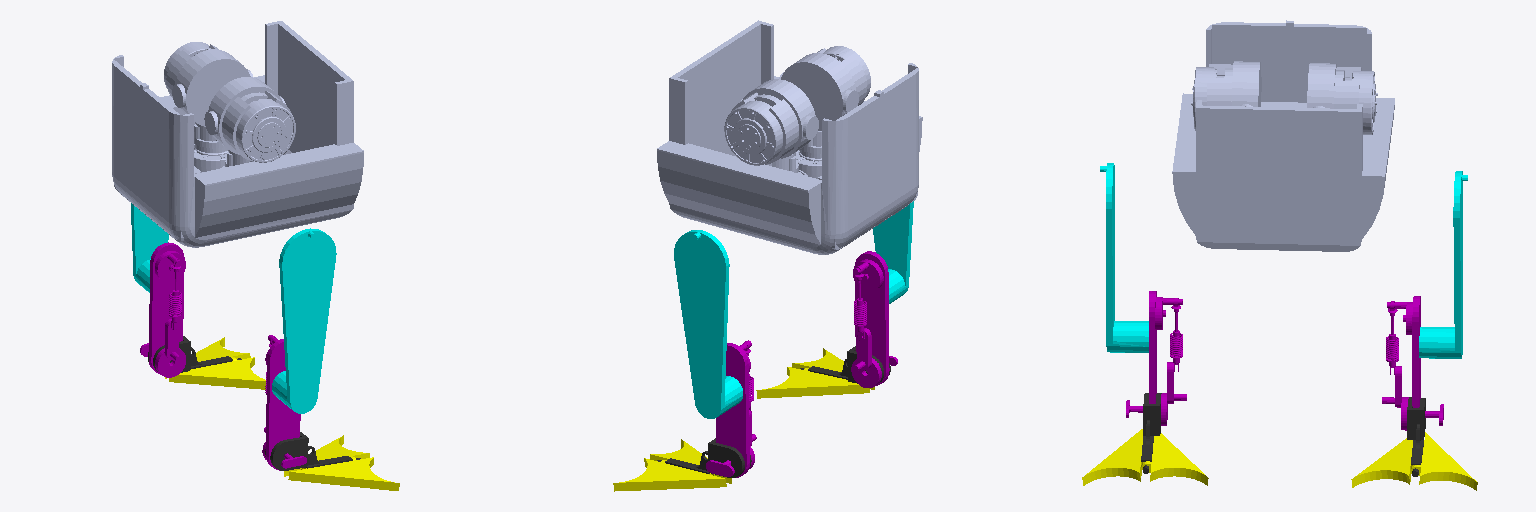
URDF robot description (Ros2_RobotBipede):
<?xml version="1.0" encoding="utf-8"?>
<!-- This URDF was automatically created by SolidWorks to URDF Exporter! Originally created by [author] ([email redacted]) 
     Commit Version: 1.6.0-4-g7f85cfe  Build Version: 1.6.7995.38578
     For more information, please see http://wiki.ros.org/sw_urdf_exporter -->
<robot
  name="Ros2_RobotBipede">
  <link
    name="base_link">
    <inertial>
      <origin
        xyz="-0.020266479508749 0.00111490010484205 0.0742713043923713"
        rpy="0 0 0" />
      <mass
        value="6.15060830667613" />
      <inertia
        ixx="0.0669131459127444"
        ixy="0.000331095916278806"
        ixz="-0.000546305633000038"
        iyy="0.0729062050878231"
        iyz="3.03791421785394E-05"
        izz="0.105752689810875" />
    </inertial>
    <visual>
      <origin
        xyz="0 0 0"
        rpy="0 0 0" />
      <geometry>
        <mesh
          filename="package://Ros2_RobotBipede/meshes/base_link.STL" />
      </geometry>
      <material
        name="">
        <color
          rgba="0.792156862745098 0.819607843137255 0.933333333333333 1" />
      </material>
    </visual>
    <collision>
      <origin
        xyz="0 0 0"
        rpy="0 0 0" />
      <geometry>
        <mesh
          filename="package://Ros2_RobotBipede/meshes/base_link.STL" />
      </geometry>
    </collision>
  </link>
  <link
    name="Link_HipYaw_D">
    <inertial>
      <origin
        xyz="-0.000950446172793551 -0.022867540621532 0.0751667640877387"
        rpy="0 0 0" />
      <mass
        value="0.950205196869861" />
      <inertia
        ixx="0.000888214151991332"
        ixy="1.7502257146007E-05"
        ixz="-1.39606253666135E-06"
        iyy="0.00130742972960493"
        iyz="-1.83060478020218E-05"
        izz="0.000919916632233785" />
    </inertial>
    <visual>
      <origin
        xyz="0 0 0"
        rpy="0 0 0" />
      <geometry>
        <mesh
          filename="package://Ros2_RobotBipede/meshes/Link_HipYaw_D.STL" />
      </geometry>
      <material
        name="">
        <color
          rgba="0.792156862745098 0.819607843137255 0.933333333333333 1" />
      </material>
    </visual>
    <collision>
      <origin
        xyz="0 0 0"
        rpy="0 0 0" />
      <geometry>
        <mesh
          filename="package://Ros2_RobotBipede/meshes/Link_HipYaw_D.STL" />
      </geometry>
    </collision>
  </link>
  <joint
    name="Joint_HipYaw_D"
    type="revolute">
    <origin
      xyz="-0.018147 -0.056077 0.1075"
      rpy="0 0 0" />
    <parent
      link="base_link" />
    <child
      link="Link_HipYaw_D" />
    <axis
      xyz="0 0 1" />
    <limit
      lower="-0.5236"
      upper="0.5236"
      effort="0"
      velocity="0" />
    <safety_controller
      k_position="1"
      k_velocity="1" />
  </joint>
  <link
    name="Link_HipPitch_D">
    <inertial>
      <origin
        xyz="-6.8761873466272E-06 0.00114519719993722 0.457300281508992"
        rpy="0 0 0" />
      <mass
        value="1.95580532271771" />
      <inertia
        ixx="0.00182757562838347"
        ixy="0.000179492807069441"
        ixz="-0.001095412325116"
        iyy="0.0114156387635016"
        iyz="3.81005450736091E-05"
        izz="0.012498153302823" />
    </inertial>
    <visual>
      <origin
        xyz="0 0 0"
        rpy="0 0 0" />
      <geometry>
        <mesh
          filename="package://Ros2_RobotBipede/meshes/Link_HipPitch_D.STL" />
      </geometry>
      <material
        name="">
        <color
          rgba="0.792156862745098 0.819607843137255 0.933333333333333 1" />
      </material>
    </visual>
    <collision>
      <origin
        xyz="0 0 0"
        rpy="0 0 0" />
      <geometry>
        <mesh
          filename="package://Ros2_RobotBipede/meshes/Link_HipPitch_D.STL" />
      </geometry>
    </collision>
  </link>
  <joint
    name="Joint_HipPitch_D"
    type="revolute">
    <origin
      xyz="0.016242 0.29906 0.078"
      rpy="1.5708 1.536 -0.0534" />
    <parent
      link="Link_HipYaw_D" />
    <child
      link="Link_HipPitch_D" />
    <axis
      xyz="0 0 -1" />
    <limit
      lower="-1.5707"
      upper="0"
      effort="0"
      velocity="0" />
  </joint>
  <link
    name="Link_Knee_D">
    <inertial>
      <origin
        xyz="0.1361476135622 0.0145881522897291 0.5193145230582"
        rpy="0 0 0" />
      <mass
        value="0.315635651588114" />
      <inertia
        ixx="0.000254426443966662"
        ixy="-0.000351345947960491"
        ixz="0.000315168780030322"
        iyy="0.00309252932985989"
        iyz="3.9094254157864E-05"
        izz="0.00316186302023711" />
    </inertial>
    <visual>
      <origin
        xyz="0 0 0"
        rpy="0 0 0" />
      <geometry>
        <mesh
          filename="package://Ros2_RobotBipede/meshes/Link_Knee_D.STL" />
      </geometry>
      <material
        name="">
        <color
          rgba="0 1 1 1" />
      </material>
    </visual>
    <collision>
      <origin
        xyz="0 0 0"
        rpy="0 0 0" />
      <geometry>
        <mesh
          filename="package://Ros2_RobotBipede/meshes/Link_Knee_D.STL" />
      </geometry>
    </collision>
  </link>
  <joint
    name="Joint_Knee_D"
    type="revolute">
    <origin
      xyz="0.16 0 -0.0245"
      rpy="0 0 -0.19569" />
    <parent
      link="Link_HipPitch_D" />
    <child
      link="Link_Knee_D" />
    <axis
      xyz="0 0 -1" />
    <limit
      lower="0"
      upper="3.1415"
      effort="0"
      velocity="0" />
  </joint>
  <link
    name="Link_Ankle_D">
    <inertial>
      <origin
        xyz="0.0396103017376912 0.00270429448791487 0.395868736059361"
        rpy="0 0 0" />
      <mass
        value="0.184605421069194" />
      <inertia
        ixx="4.34030510364001E-05"
        ixy="-3.54476065730418E-06"
        ixz="-1.48994605727124E-05"
        iyy="0.0004953347056734"
        iyz="5.99822899610163E-08"
        izz="0.000521624460728874" />
    </inertial>
    <visual>
      <origin
        xyz="0 0 0"
        rpy="0 0 0" />
      <geometry>
        <mesh
          filename="package://Ros2_RobotBipede/meshes/Link_Ankle_D.STL" />
      </geometry>
      <material
        name="">
        <color
          rgba="0.752941176470588 0 0.752941176470588 1" />
      </material>
    </visual>
    <collision>
      <origin
        xyz="0 0 0"
        rpy="0 0 0" />
      <geometry>
        <mesh
          filename="package://Ros2_RobotBipede/meshes/Link_Ankle_D.STL" />
      </geometry>
    </collision>
  </link>
  <joint
    name="Joint_Ankle_D"
    type="revolute">
    <origin
      xyz="0.23881 0.023881 0.0635"
      rpy="0 0 0.14261" />
    <parent
      link="Link_Knee_D" />
    <child
      link="Link_Ankle_D" />
    <axis
      xyz="0 0 -1" />
    <limit
      lower="-3.1415"
      upper="0"
      effort="0"
      velocity="0" />
  </joint>
  <link
    name="Link_Foot_D">
    <inertial>
      <origin
        xyz="-0.024183614586474 0.00472900535085019 0.39236385931783"
        rpy="0 0 0" />
      <mass
        value="0.0546943099715329" />
      <inertia
        ixx="1.34777038749873E-05"
        ixy="1.59485905922863E-06"
        ixz="-1.92965520633829E-07"
        iyy="2.55476090841959E-05"
        iyz="2.18131157553196E-08"
        izz="3.15296344140971E-05" />
    </inertial>
    <visual>
      <origin
        xyz="0 0 0"
        rpy="0 0 0" />
      <geometry>
        <mesh
          filename="package://Ros2_RobotBipede/meshes/Link_Foot_D.STL" />
      </geometry>
      <material
        name="">
        <color
          rgba="0.250980392156863 0.250980392156863 0.250980392156863 1" />
      </material>
    </visual>
    <collision>
      <origin
        xyz="0 0 0"
        rpy="0 0 0" />
      <geometry>
        <mesh
          filename="package://Ros2_RobotBipede/meshes/Link_Foot_D.STL" />
      </geometry>
    </collision>
  </link>
  <joint
    name="Joint_Foot_D"
    type="revolute">
    <origin
      xyz="0.12 0 0.01"
      rpy="0 0 -1.5708" />
    <parent
      link="Link_Ankle_D" />
    <child
      link="Link_Foot_D" />
    <axis
      xyz="0 0 1" />
    <limit
      lower="0"
      upper="3.1415"
      effort="0"
      velocity="0" />
  </joint>
  <link
    name="Link_PalmeD_g">
    <inertial>
      <origin
        xyz="0.00752427478471418 -0.0288252517174629 -0.0416337378484336"
        rpy="0 0 0" />
      <mass
        value="0.0807463947610813" />
      <inertia
        ixx="0.000104013520420242"
        ixy="7.09548939607373E-06"
        ixz="-4.13409053563053E-06"
        iyy="7.84418920096679E-05"
        iyz="1.588878434715E-05"
        izz="3.23075735723034E-05" />
    </inertial>
    <visual>
      <origin
        xyz="0 0 0"
        rpy="0 0 0" />
      <geometry>
        <mesh
          filename="package://Ros2_RobotBipede/meshes/Link_PalmeD_g.STL" />
      </geometry>
      <material
        name="">
        <color
          rgba="1 1 0 1" />
      </material>
    </visual>
    <collision>
      <origin
        xyz="0 0 0"
        rpy="0 0 0" />
      <geometry>
        <mesh
          filename="package://Ros2_RobotBipede/meshes/Link_PalmeD_g.STL" />
      </geometry>
    </collision>
  </link>
  <joint
    name="Joint_PalmeD_g"
    type="revolute">
    <origin
      xyz="-0.13819 0.038047 0.39515"
      rpy="1.5821 0.31937 -1.5945" />
    <parent
      link="Link_Foot_D" />
    <child
      link="Link_PalmeD_g" />
    <axis
      xyz="0 0 -1" />
    <limit
      lower="-1.5707"
      upper="1.5707"
      effort="0"
      velocity="0" />
  </joint>
  <link
    name="Link_PalmeD_d">
    <inertial>
      <origin
        xyz="-0.0122351374798444 0.0271626813559712 -0.0448993183015995"
        rpy="0 0 0" />
      <mass
        value="0.0807463947610811" />
      <inertia
        ixx="0.000107149417523528"
        ixy="1.09121509241879E-05"
        ixz="9.78551104026665E-06"
        iyy="8.76817030331559E-05"
        iyz="-2.18506395767271E-05"
        izz="3.23075735723034E-05" />
    </inertial>
    <visual>
      <origin
        xyz="0 0 0"
        rpy="0 0 0" />
      <geometry>
        <mesh
          filename="package://Ros2_RobotBipede/meshes/Link_PalmeD_d.STL" />
      </geometry>
      <material
        name="">
        <color
          rgba="1 1 0 1" />
      </material>
    </visual>
    <collision>
      <origin
        xyz="0 0 0"
        rpy="0 0 0" />
      <geometry>
        <mesh
          filename="package://Ros2_RobotBipede/meshes/Link_PalmeD_d.STL" />
      </geometry>
    </collision>
  </link>
  <joint
    name="Joint_PalmeD_d"
    type="revolute">
    <origin
      xyz="-0.13819 0.038047 0.39515"
      rpy="1.5821 0.31937 -1.5945" />
    <parent
      link="Link_Foot_D" />
    <child
      link="Link_PalmeD_d" />
    <axis
      xyz="0 0 -1" />
    <limit
      lower="-1.5707"
      upper="1.5707"
      effort="0"
      velocity="0" />
  </joint>
  <link
    name="Link_HipYaw_G">
    <inertial>
      <origin
        xyz="-9.14920620759263E-06 0.0297164013094371 0.0727528311241241"
        rpy="0 0 0" />
      <mass
        value="0.950205196909706" />
      <inertia
        ixx="0.000888067370319887"
        ixy="-3.10038797876888E-07"
        ixz="-7.28258366177286E-07"
        iyy="0.00130826965929317"
        iyz="-1.73990365620638E-05"
        izz="0.000919223484374397" />
    </inertial>
    <visual>
      <origin
        xyz="0 0 0"
        rpy="0 0 0" />
      <geometry>
        <mesh
          filename="package://Ros2_RobotBipede/meshes/Link_HipYaw_G.STL" />
      </geometry>
      <material
        name="">
        <color
          rgba="0.792156862745098 0.819607843137255 0.933333333333333 1" />
      </material>
    </visual>
    <collision>
      <origin
        xyz="0 0 0"
        rpy="0 0 0" />
      <geometry>
        <mesh
          filename="package://Ros2_RobotBipede/meshes/Link_HipYaw_G.STL" />
      </geometry>
    </collision>
  </link>
  <joint
    name="Joint_HipYaw_G"
    type="revolute">
    <origin
      xyz="-0.011806 0.057746 0.1075"
      rpy="0.092261 0 -0.055652" />
    <parent
      link="base_link" />
    <child
      link="Link_HipYaw_G" />
    <axis
      xyz="0 0.09213 0.99575" />
    <limit
      lower="-0.5236"
      upper="0.5236"
      effort="0"
      velocity="0" />
    <safety_controller
      k_position="1"
      k_velocity="1" />
  </joint>
  <link
    name="Link_HipPitch_G">
    <inertial>
      <origin
        xyz="0.000154019260506733 0.00299951106996221 -0.457289702584565"
        rpy="0 0 0" />
      <mass
        value="1.95579685025705" />
      <inertia
        ixx="0.00184767496472383"
        ixy="-0.000291523209074059"
        ixz="0.00109025011266845"
        iyy="0.0113948969015732"
        iyz="1.79130632594967E-05"
        izz="0.0124987422515525" />
    </inertial>
    <visual>
      <origin
        xyz="0 0 0"
        rpy="0 0 0" />
      <geometry>
        <mesh
          filename="package://Ros2_RobotBipede/meshes/Link_HipPitch_G.STL" />
      </geometry>
      <material
        name="">
        <color
          rgba="0.792156862745098 0.819607843137255 0.933333333333333 1" />
      </material>
    </visual>
    <collision>
      <origin
        xyz="0 0 0"
        rpy="0 0 0" />
      <geometry>
        <mesh
          filename="package://Ros2_RobotBipede/meshes/Link_HipPitch_G.STL" />
      </geometry>
    </collision>
  </link>
  <joint
    name="Joint_HipPitch_G"
    type="revolute">
    <origin
      xyz="0.0024054 -0.29102 0.10526"
      rpy="0.092426 1.4781 -1.465" />
    <parent
      link="Link_HipYaw_G" />
    <child
      link="Link_HipPitch_G" />
    <axis
      xyz="0 0 1" />
    <limit
      lower="-1.5707"
      upper="0"
      effort="0"
      velocity="0" />
  </joint>
  <link
    name="Link_Knee_G">
    <inertial>
      <origin
        xyz="0.136087501996235 -0.00914771609014348 -0.519295791416989"
        rpy="0 0 0" />
      <mass
        value="0.315635651588115" />
      <inertia
        ixx="0.00025592480761019"
        ixy="0.000357967850971516"
        ixz="-0.000314521963263219"
        iyy="0.00309087580142431"
        iyz="3.84434445421098E-05"
        izz="0.00316201818502919" />
    </inertial>
    <visual>
      <origin
        xyz="0 0 0"
        rpy="0 0 0" />
      <geometry>
        <mesh
          filename="package://Ros2_RobotBipede/meshes/Link_Knee_G.STL" />
      </geometry>
      <material
        name="">
        <color
          rgba="0 1 1 1" />
      </material>
    </visual>
    <collision>
      <origin
        xyz="0 0 0"
        rpy="0 0 0" />
      <geometry>
        <mesh
          filename="package://Ros2_RobotBipede/meshes/Link_Knee_G.STL" />
      </geometry>
    </collision>
  </link>
  <joint
    name="Joint_Knee_G"
    type="revolute">
    <origin
      xyz="0.16 0 0.0245"
      rpy="0 0 0.051517" />
    <parent
      link="Link_HipPitch_G" />
    <child
      link="Link_Knee_G" />
    <axis
      xyz="0 0 1" />
    <limit
      lower="0"
      upper="3.1415"
      effort="0"
      velocity="0" />
  </joint>
  <link
    name="Link_Ankle_G">
    <inertial>
      <origin
        xyz="0.0397500975639473 0.0006753838731271 -0.396142668899675"
        rpy="0 0 0" />
      <mass
        value="0.186472961115324" />
      <inertia
        ixx="4.63158595208964E-05"
        ixy="2.93208629453237E-06"
        ixz="2.0362420251007E-05"
        iyy="0.000509907707730688"
        iyz="-1.29581081342544E-07"
        izz="0.000534225847487257" />
    </inertial>
    <visual>
      <origin
        xyz="0 0 0"
        rpy="0 0 0" />
      <geometry>
        <mesh
          filename="package://Ros2_RobotBipede/meshes/Link_Ankle_G.STL" />
      </geometry>
      <material
        name="">
        <color
          rgba="0.752941176470588 0 0.752941176470588 1" />
      </material>
    </visual>
    <collision>
      <origin
        xyz="0 0 0"
        rpy="0 0 0" />
      <geometry>
        <mesh
          filename="package://Ros2_RobotBipede/meshes/Link_Ankle_G.STL" />
      </geometry>
    </collision>
  </link>
  <joint
    name="Joint_Ankle_G"
    type="revolute">
    <origin
      xyz="0.23881 -0.023881 -0.0635"
      rpy="0 0 -0.072242" />
    <parent
      link="Link_Knee_G" />
    <child
      link="Link_Ankle_G" />
    <axis
      xyz="0 0 1" />
    <limit
      lower="-3.1415"
      upper="0"
      effort="0"
      velocity="0" />
  </joint>
  <link
    name="Link_Foot_G">
    <inertial>
      <origin
        xyz="-0.0212783620564291 0.00366434320182152 -0.402876501511627"
        rpy="0 0 0" />
      <mass
        value="0.0546943093522807" />
      <inertia
        ixx="1.34225794951054E-05"
        ixy="1.36942907248865E-06"
        ixz="1.93923311439125E-07"
        iyy="2.56027511558376E-05"
        iyz="-8.07752766775745E-09"
        izz="3.152961663084E-05" />
    </inertial>
    <visual>
      <origin
        xyz="0 0 0"
        rpy="0 0 0" />
      <geometry>
        <mesh
          filename="package://Ros2_RobotBipede/meshes/Link_Foot_G.STL" />
      </geometry>
      <material
        name="">
        <color
          rgba="0.250980392156863 0.250980392156863 0.250980392156863 1" />
      </material>
    </visual>
    <collision>
      <origin
        xyz="0 0 0"
        rpy="0 0 0" />
      <geometry>
        <mesh
          filename="package://Ros2_RobotBipede/meshes/Link_Foot_G.STL" />
      </geometry>
    </collision>
  </link>
  <joint
    name="Joint_Foot_G"
    type="revolute">
    <origin
      xyz="0.12 0 0"
      rpy="0 0 -1.5708" />
    <parent
      link="Link_Ankle_G" />
    <child
      link="Link_Foot_G" />
    <axis
      xyz="0 0 1" />
    <limit
      lower="0"
      upper="3.1415"
      effort="0"
      velocity="0" />
  </joint>
  <link
    name="Link_PalmeG_g">
    <inertial>
      <origin
        xyz="-0.0053948926506362 -0.0292985491262852 -0.0416337378491805"
        rpy="0 0 0" />
      <mass
        value="0.080746394761081" />
      <inertia
        ixx="0.000104870221197031"
        ixy="-5.26353489831E-06"
        ixz="2.9858327019749E-06"
        iyy="7.75851912328781E-05"
        iyz="1.61440074226582E-05"
        izz="3.23075735723034E-05" />
    </inertial>
    <visual>
      <origin
        xyz="0 0 0"
        rpy="0 0 0" />
      <geometry>
        <mesh
          filename="package://Ros2_RobotBipede/meshes/Link_PalmeG_g.STL" />
      </geometry>
      <material
        name="">
        <color
          rgba="1 1 0 1" />
      </material>
    </visual>
    <collision>
      <origin
        xyz="0 0 0"
        rpy="0 0 0" />
      <geometry>
        <mesh
          filename="package://Ros2_RobotBipede/meshes/Link_PalmeG_g.STL" />
      </geometry>
    </collision>
  </link>
  <joint
    name="Joint_PalmeG_g"
    type="revolute">
    <origin
      xyz="-0.13588 0.034908 -0.40566"
      rpy="1.56 -0.086323 -1.5785" />
    <parent
      link="Link_Foot_G" />
    <child
      link="Link_PalmeG_g" />
    <axis
      xyz="0 0 -1" />
    <limit
      lower="-1.5707"
      upper="1.5707"
      effort="0"
      velocity="0" />
  </joint>
  <link
    name="Link_PalmeG_d">
    <inertial>
      <origin
        xyz="-0.000167854281118984 0.0297906306165989 -0.0448993183017021"
        rpy="0 0 0" />
      <mass
        value="0.0807463947610813" />
      <inertia
        ixx="0.000112037865588735"
        ixy="1.05839839290183E-07"
        ixz="8.30407929665023E-08"
        iyy="8.27932549679495E-05"
        iyz="-2.39415910176814E-05"
        izz="3.23075735723034E-05" />
    </inertial>
    <visual>
      <origin
        xyz="0 0 0"
        rpy="0 0 0" />
      <geometry>
        <mesh
          filename="package://Ros2_RobotBipede/meshes/Link_PalmeG_d.STL" />
      </geometry>
      <material
        name="">
        <color
          rgba="1 1 0 1" />
      </material>
    </visual>
    <collision>
      <origin
        xyz="0 0 0"
        rpy="0 0 0" />
      <geometry>
        <mesh
          filename="package://Ros2_RobotBipede/meshes/Link_PalmeG_d.STL" />
      </geometry>
    </collision>
  </link>
  <joint
    name="Joint_PalmeG_d"
    type="revolute">
    <origin
      xyz="-0.13588 0.034908 -0.40566"
      rpy="1.56 -0.086323 -1.5785" />
    <parent
      link="Link_Foot_G" />
    <child
      link="Link_PalmeG_d" />
    <axis
      xyz="0 0 -1" />
    <limit
      lower="-1.5707"
      upper="1.5707"
      effort="0"
      velocity="0" />
  </joint>
</robot>

--- What the picture shows (computed from the rendered views, not written in the file) ---
3 views of the same robot in one strip: view 1: azimuth 30°, elevation 25°; view 2: azimuth 150°, elevation 25°; view 3: azimuth 270°, elevation 25° (orthographic).
Model Ros2_RobotBipede with 15 links and 14 joints (14 revolute), rooted at base_link, posed every joint at zero.
Visible links, largest first — view 1: base_link, Link_Knee_D, Link_HipYaw_D, Link_Ankle_G, Link_HipYaw_G, Link_Ankle_D, Link_PalmeD_d, Link_PalmeG_d, Link_Knee_G, Link_Foot_D, Link_Foot_G, Link_PalmeD_g (+1 smaller); view 2: base_link, Link_Knee_G, Link_HipYaw_G, Link_HipYaw_D, Link_Ankle_D, Link_Ankle_G, Link_Knee_D, Link_PalmeG_g, Link_PalmeD_g, Link_Foot_G, Link_PalmeG_d, Link_Foot_D (+1 smaller); view 3: base_link, Link_HipYaw_G, Link_HipYaw_D, Link_Knee_G, Link_Knee_D, Link_Ankle_G, Link_Ankle_D, Link_PalmeD_g, Link_PalmeG_g, Link_PalmeD_d, Link_PalmeG_d, Link_Foot_G (+1 smaller).
Link boxes in pixels (<box>): base_link: <box>112,21,363,247</box>; Link_Knee_D: <box>272,228,336,413</box>; Link_HipYaw_D: <box>204,77,295,165</box>; Link_Ankle_G: <box>140,242,185,377</box>; Link_HipYaw_G: <box>164,42,253,141</box>; Link_Ankle_D: <box>262,335,306,470</box>; Link_PalmeD_d: <box>288,457,399,490</box>; Link_PalmeG_d: <box>169,357,265,389</box>; Link_Knee_G: <box>131,203,168,292</box>; Link_Foot_D: <box>265,432,360,470</box>; Link_Foot_G: <box>148,336,241,372</box>; Link_PalmeD_g: <box>284,435,369,476</box>; base_link: <box>657,20,922,254</box>; Link_Knee_G: <box>674,230,742,418</box>; Link_HipYaw_G: <box>724,79,818,170</box>; Link_HipYaw_D: <box>779,46,870,146</box>; Link_Ankle_D: <box>851,251,897,387</box>; Link_Ankle_G: <box>706,340,756,477</box>; Link_Knee_D: <box>873,201,913,303</box>; Link_PalmeG_g: <box>613,458,726,491</box>; Link_PalmeD_g: <box>756,367,869,398</box>; Link_Foot_G: <box>657,438,751,477</box>; Link_PalmeG_d: <box>650,439,731,483</box>; Link_Foot_D: <box>800,346,890,383</box>; base_link: <box>1172,20,1394,251</box>; Link_HipYaw_G: <box>1307,63,1377,134</box>; Link_HipYaw_D: <box>1191,61,1261,130</box>; Link_Knee_G: <box>1419,171,1467,358</box>; Link_Knee_D: <box>1100,163,1148,352</box>; Link_Ankle_G: <box>1382,296,1443,430</box>; Link_Ankle_D: <box>1126,291,1186,425</box>; Link_PalmeD_g: <box>1141,433,1208,485</box>; Link_PalmeG_g: <box>1411,432,1477,490</box>; Link_PalmeD_d: <box>1082,429,1142,485</box>; Link_PalmeG_d: <box>1351,438,1423,487</box>; Link_Foot_G: <box>1407,397,1425,476</box>.
Size in the robot's own frame: 0.3217 by 0.5942 by 0.6396 metres.
13 mesh visuals loaded from 15 distinct referenced files (13 binary STL); not drawn: 2 (reference not matched to a file when rendering).
